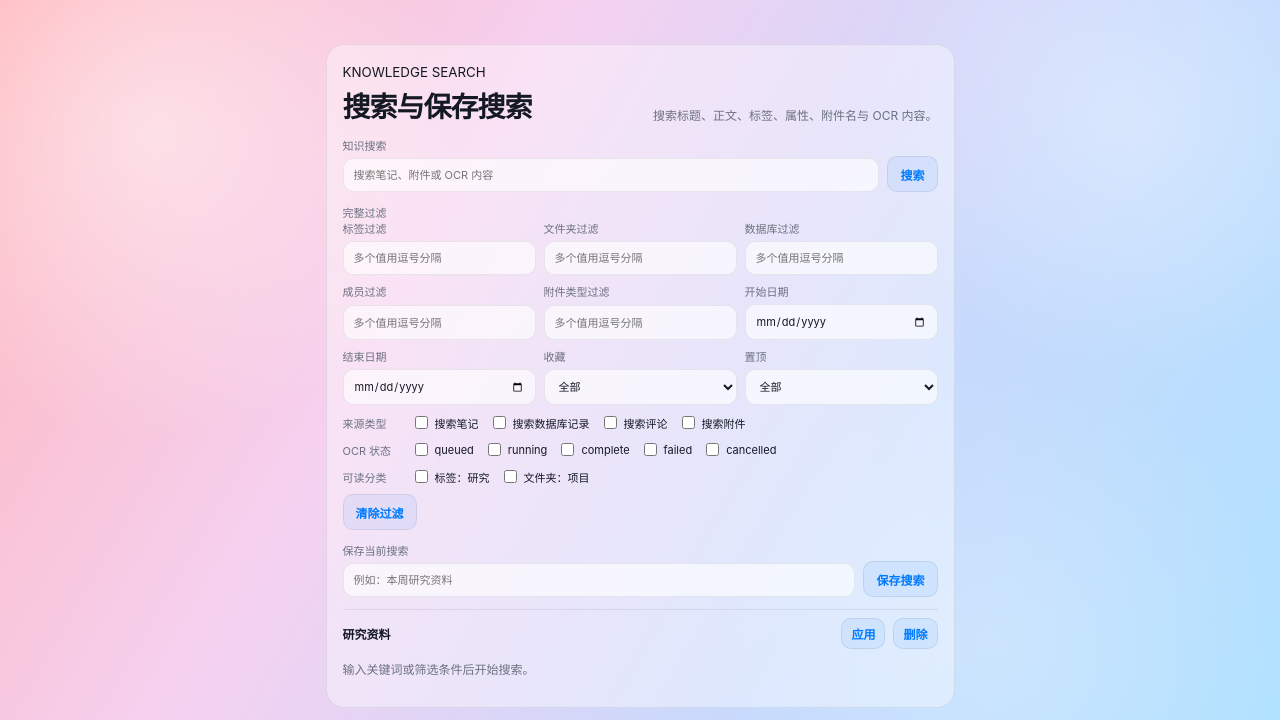
Test: KnowledgeSearchPanel › loads saved searches, submits complete filters, and shows hit sources
Expected: the button named "应用研究资料" is shown, [842,618,886,649]
Type "Alpha" into the field labelled "知识搜索" at (611, 175), box [342,158,880,192]
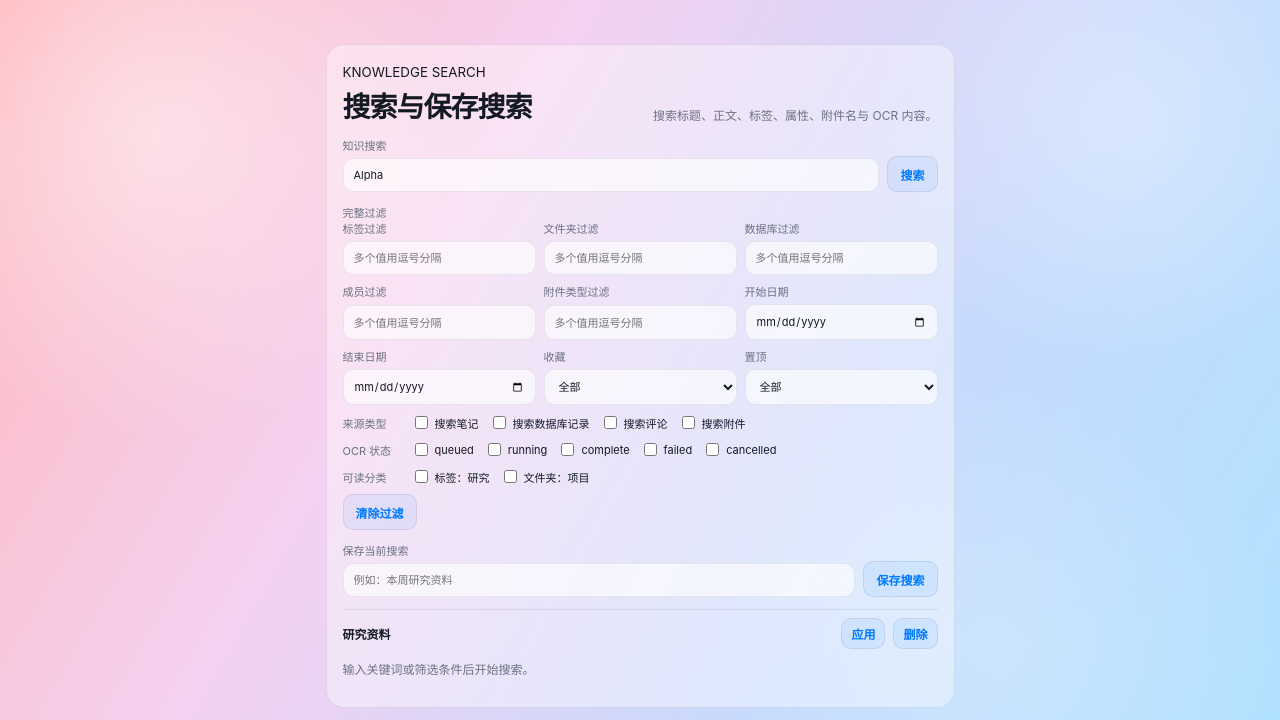
Type "tag-1, tag-2" into the field labelled "标签过滤" at (439, 258), box [342,241,536,275]
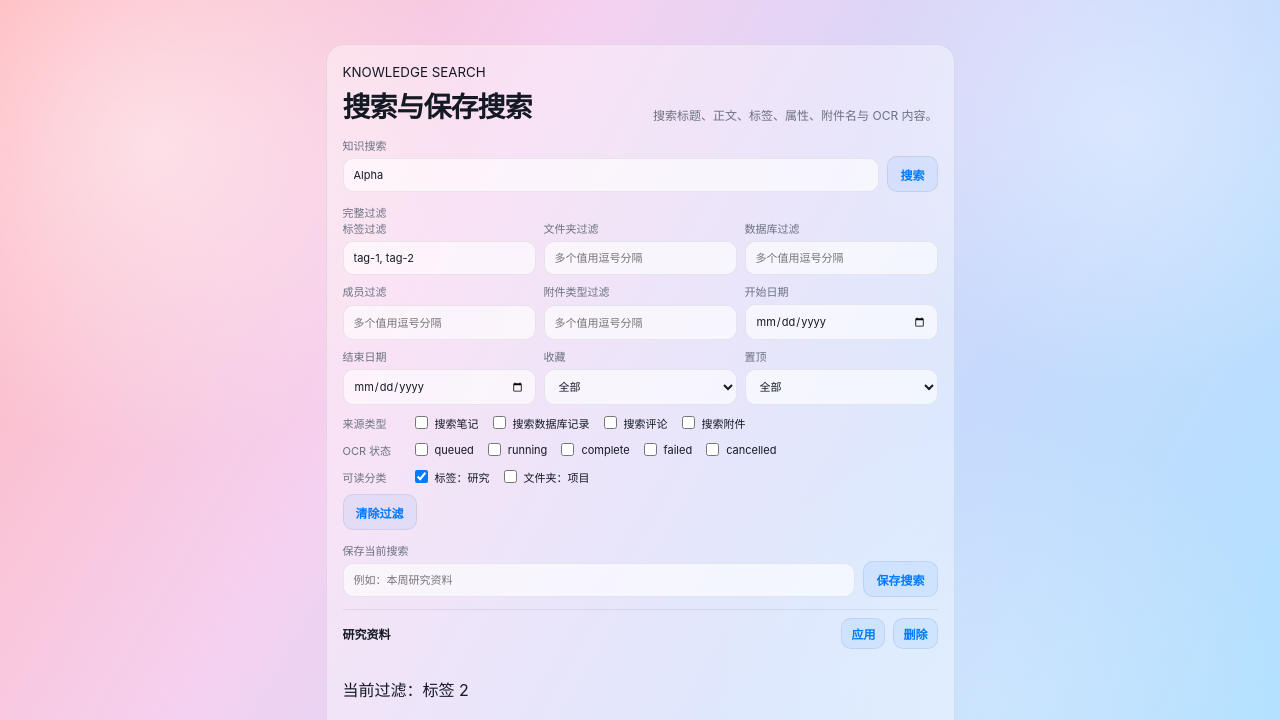
Type "folder-1" into the field labelled "文件夹过滤" at (640, 258), box [544,241,736,275]
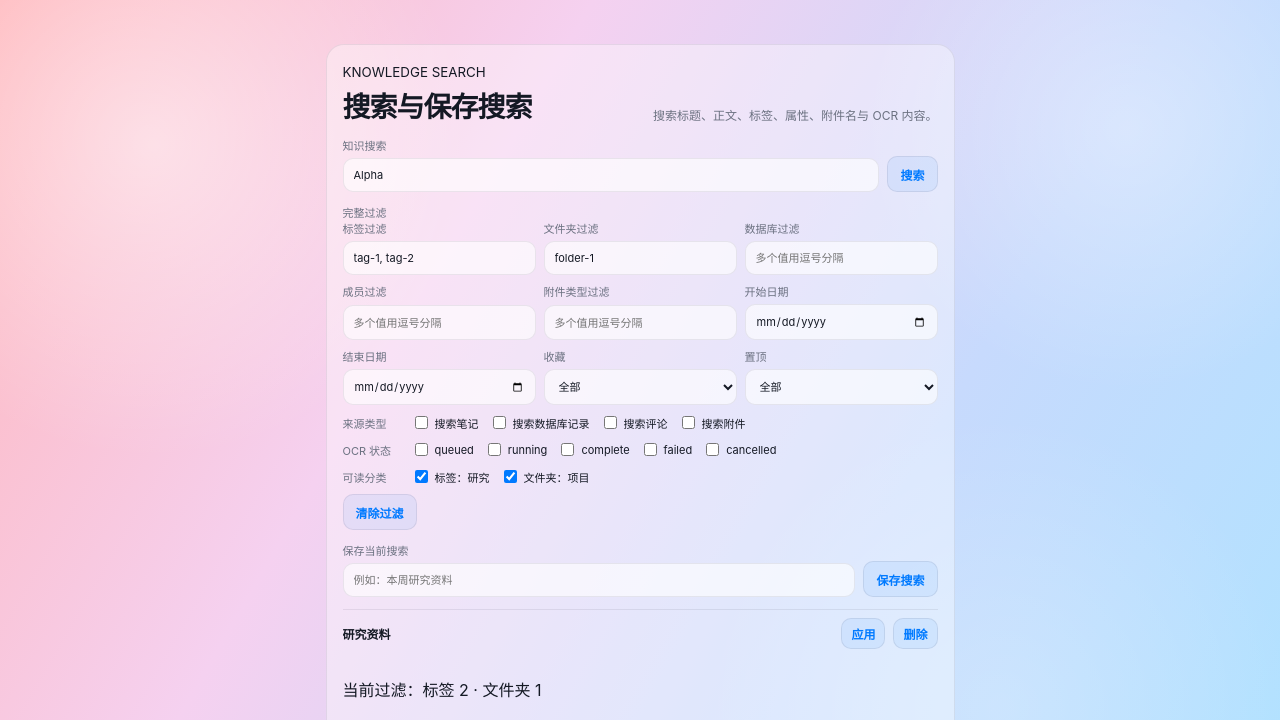
Type "db-1" into the field labelled "数据库过滤" at (841, 258), box [744,241,938,275]
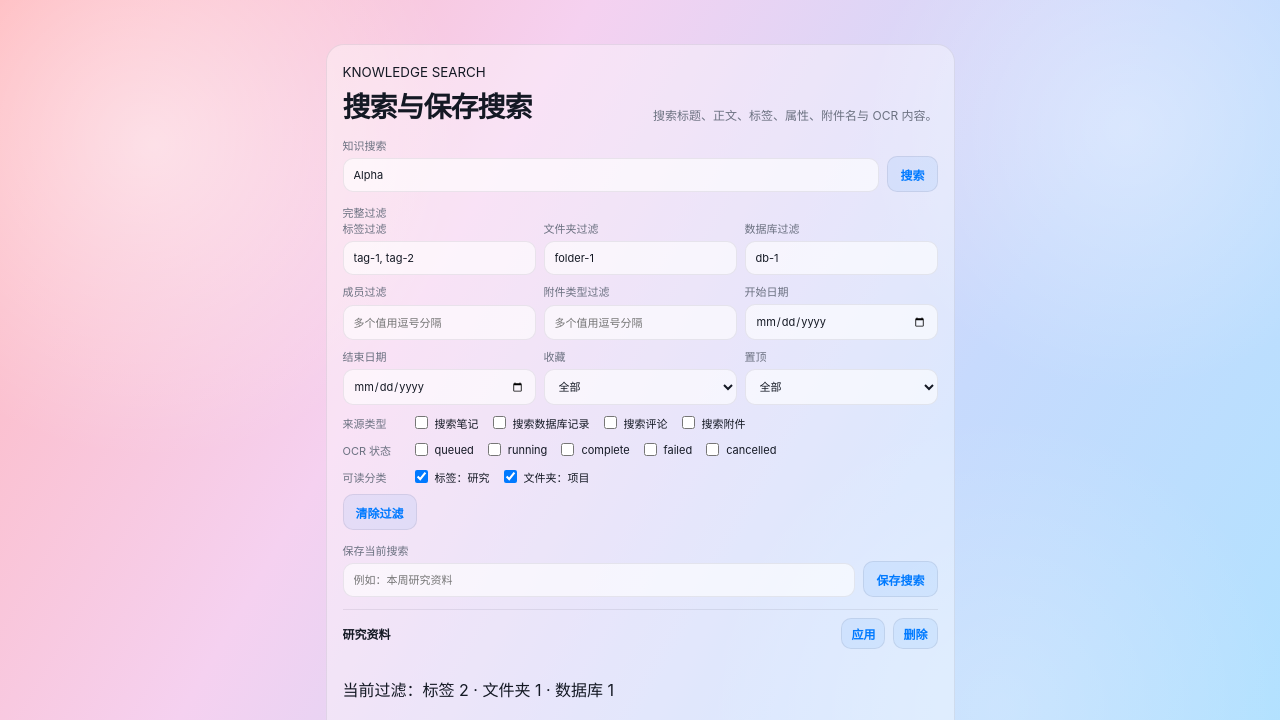
Click the checkbox labelled "搜索笔记" at (421, 422), box [414,416,428,429]
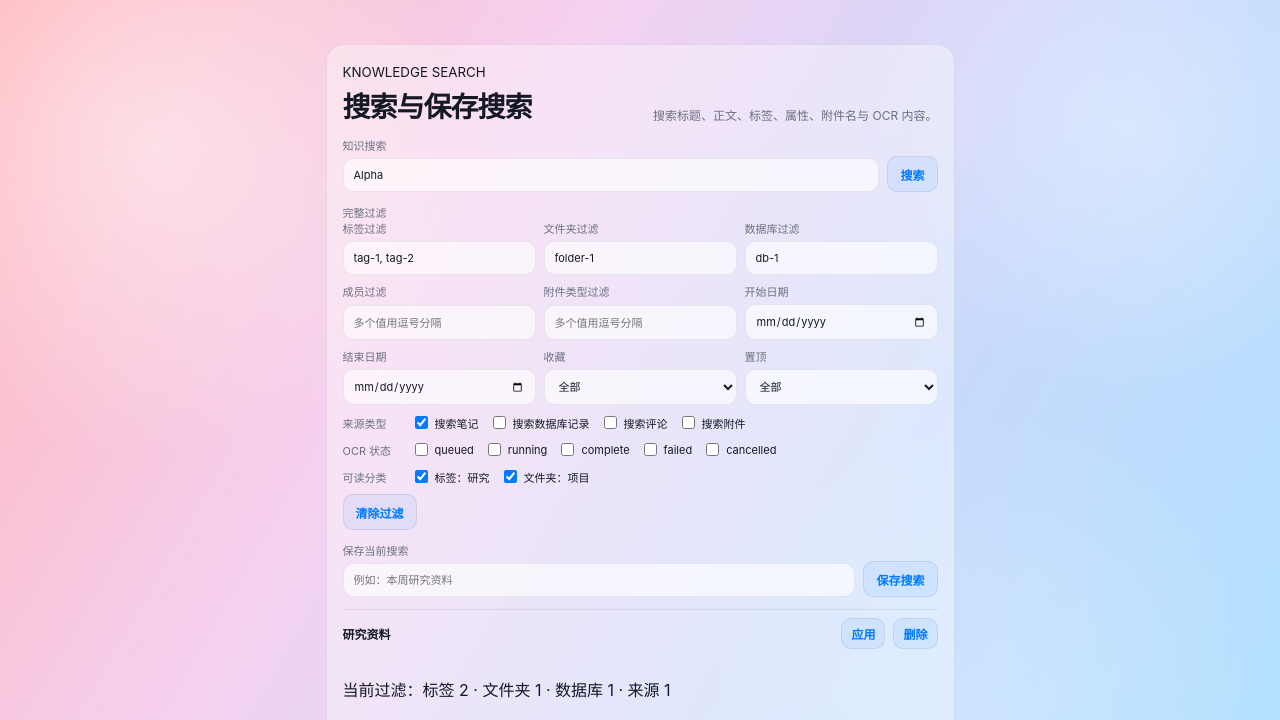
Click the button "搜索" at (912, 174), box [888,156,938,192]
(page scrolled)
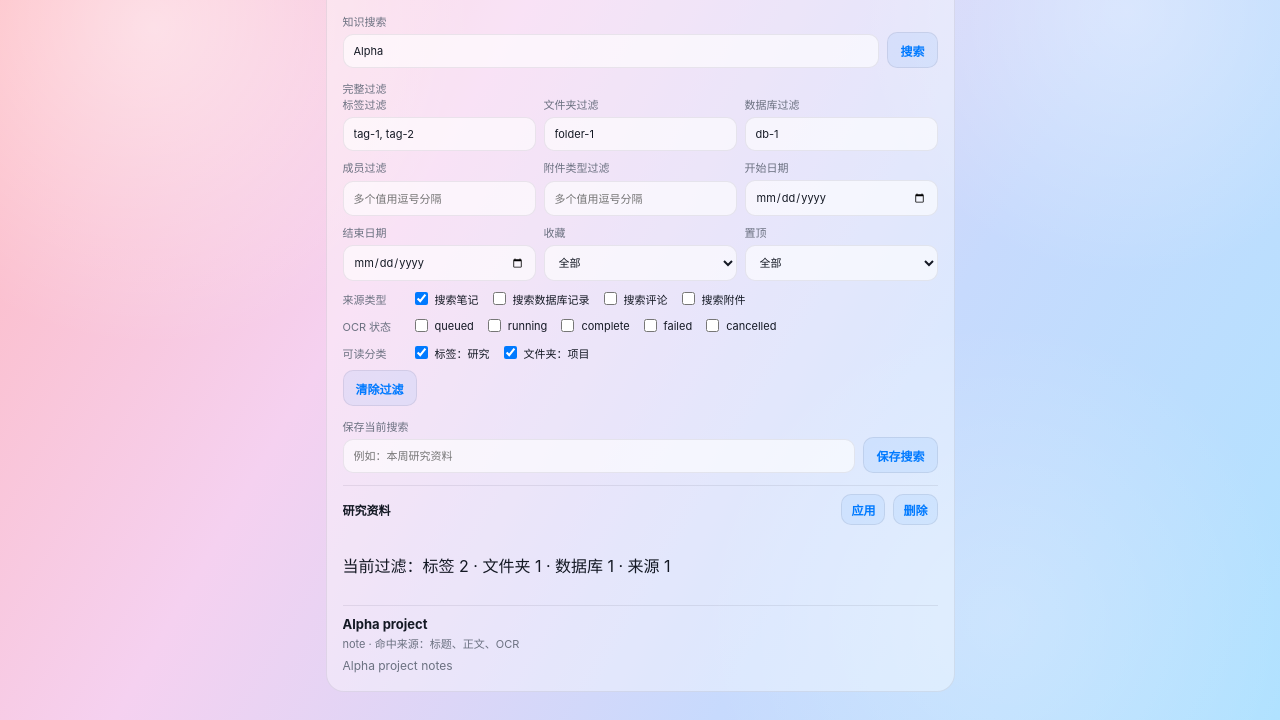
Result: the element "Alpha project" shows "标题、正文、OCR" at [430,637,519,651]
